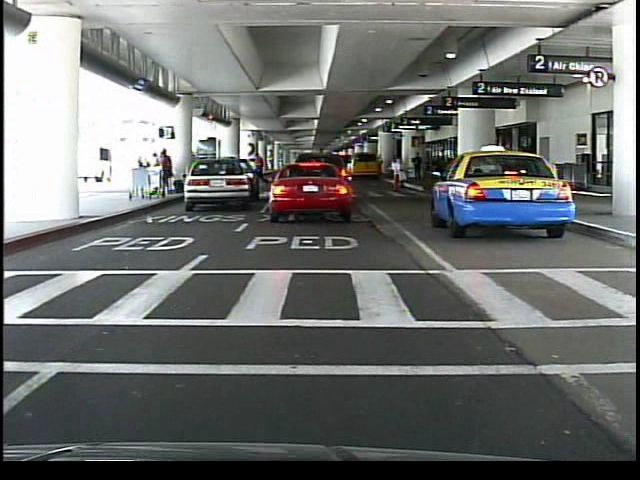person: (161, 148, 176, 197), (254, 153, 272, 193), (316, 154, 330, 202), (390, 152, 404, 189), (301, 164, 313, 202), (413, 152, 425, 185)
